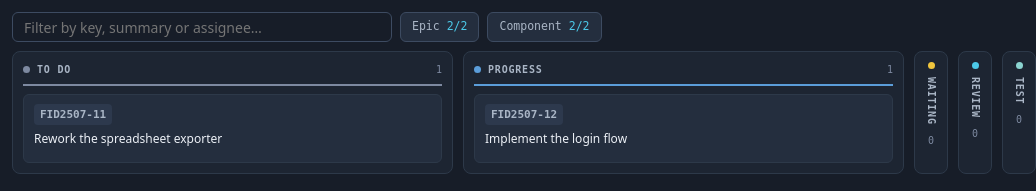
Test: JiraBoard filtering › the bar says how much of the board is left once it is narrowed
This screenshot has width=1036, height=191.
In the search field with test id "jira-filter": (202, 27) [12, 12, 392, 42], type "sprdsht"
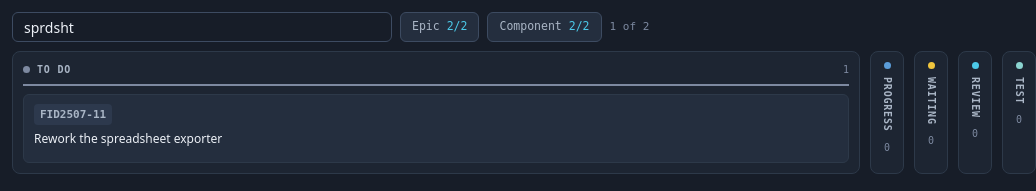
expect the text with test id "jira-filter-count" reads "1 of 2": met, box [610, 18, 649, 36]
